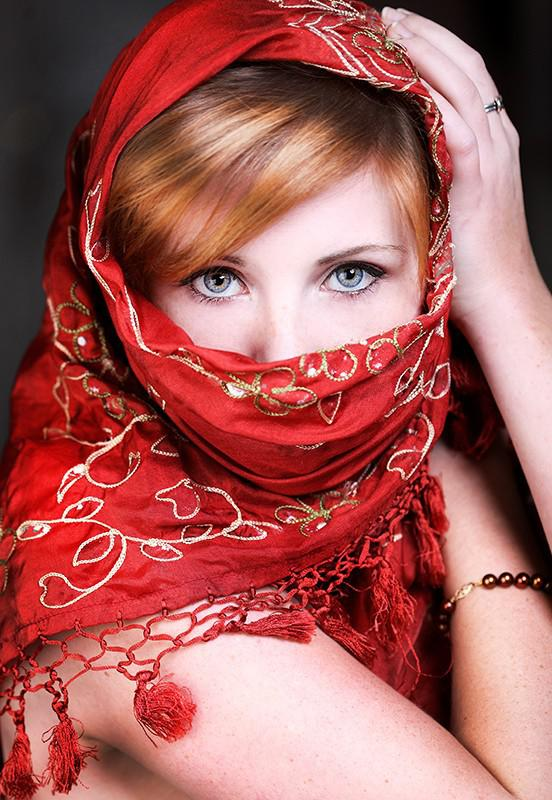WRONG: (157, 235, 411, 489)
